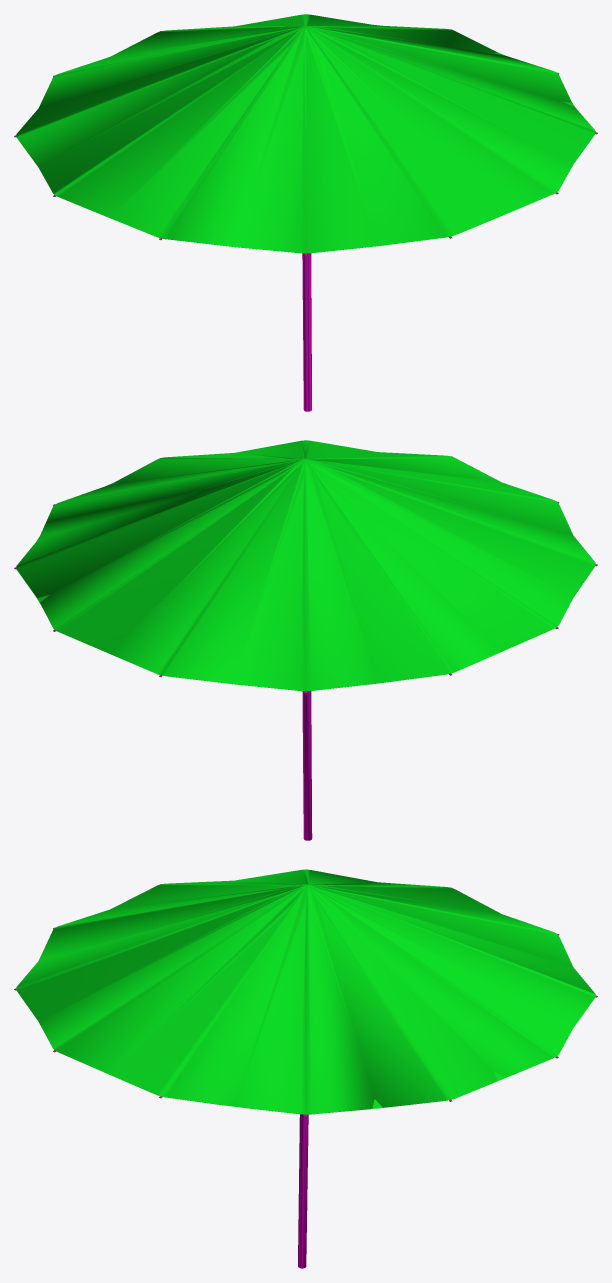
Rendered from Paraguas_sombrilla.fbx.
The picture shows the model from 3 angles, top to bottom: view 1: azimuth 30°, elevation 25°; view 2: azimuth 150°, elevation 25°; view 3: azimuth 270°, elevation 25°; orthographic projection.
Visible parts, largest first — view 1: 10243_Patio_Umbrella_Open_v1_Iteration2; view 2: 10243_Patio_Umbrella_Open_v1_Iteration2; view 3: 10243_Patio_Umbrella_Open_v1_Iteration2.
Part boxes in pixels (box(x1,y1,x2,y2)): 10243_Patio_Umbrella_Open_v1_Iteration2: box(14, 14, 597, 411); 10243_Patio_Umbrella_Open_v1_Iteration2: box(14, 440, 597, 840); 10243_Patio_Umbrella_Open_v1_Iteration2: box(14, 869, 597, 1268).
Size of the model in its own units: 673 by 486 by 673.
